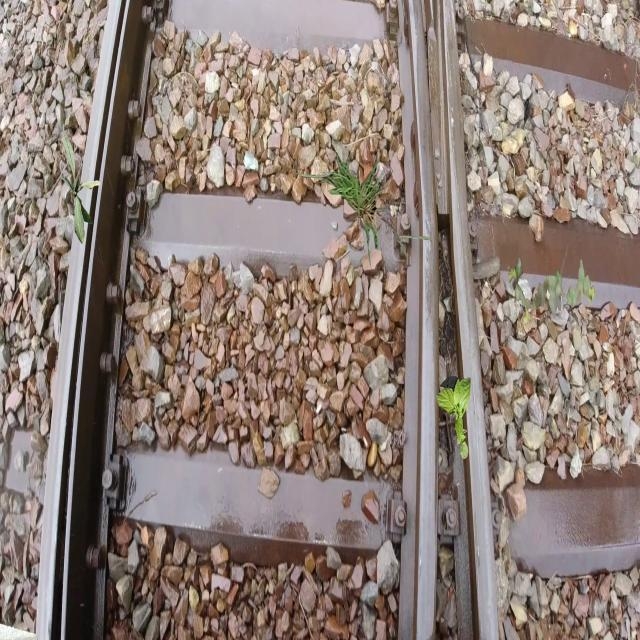Plant: (289, 151, 432, 270), (509, 257, 596, 326), (61, 134, 101, 244), (436, 376, 472, 459)
